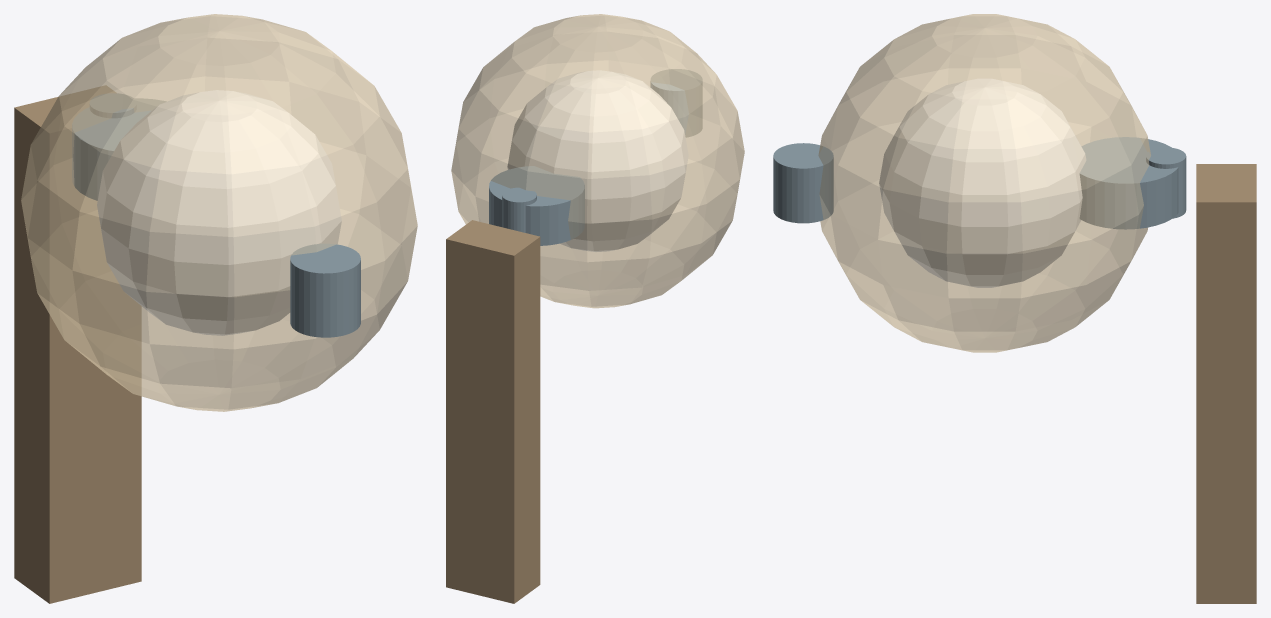
File: den_cho.glb
3 views of the same model, side by side, from view 1: azimuth 30°, elevation 25°; view 2: azimuth 150°, elevation 25°; view 3: azimuth 270°, elevation 25° (orthographic). The views are drawn at different scales.
Visible parts, largest first — view 1: den_cho_body, cho_doi_glow; view 2: den_cho_body, cho_doi_glow; view 3: den_cho_body, cho_doi_glow.
Part boxes in pixels (<box>): den_cho_body: <box>14,14,417,603</box>; cho_doi_glow: <box>97,90,341,335</box>; den_cho_body: <box>446,14,744,603</box>; cho_doi_glow: <box>507,70,688,251</box>; den_cho_body: <box>773,14,1256,603</box>; cho_doi_glow: <box>879,78,1086,287</box>.
Bounding box in the file's own units: 0.3315 × 0.61 × 0.48.
